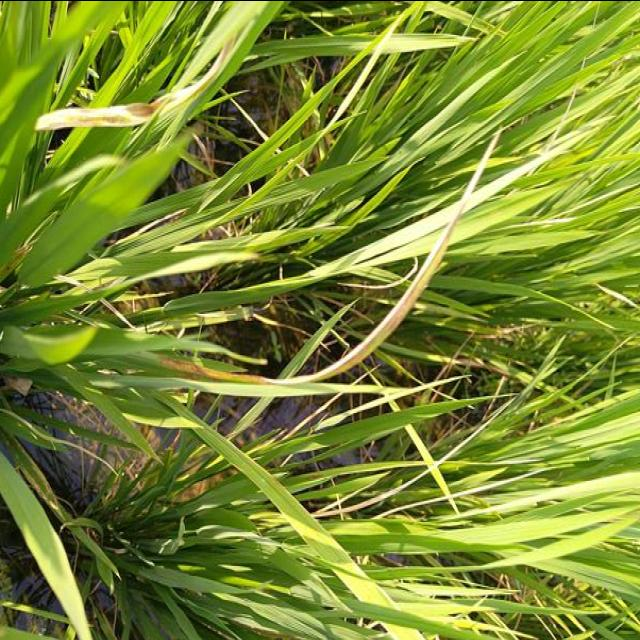Leaf Streak: (158, 167, 482, 384), (17, 449, 56, 507)
